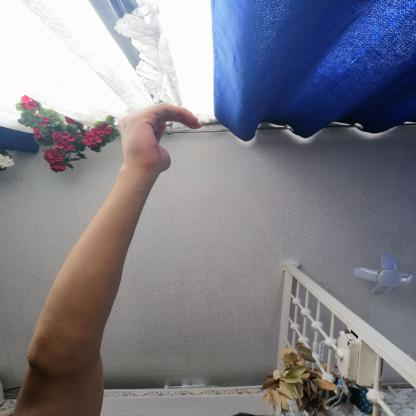HAA: (106, 92, 210, 182)
